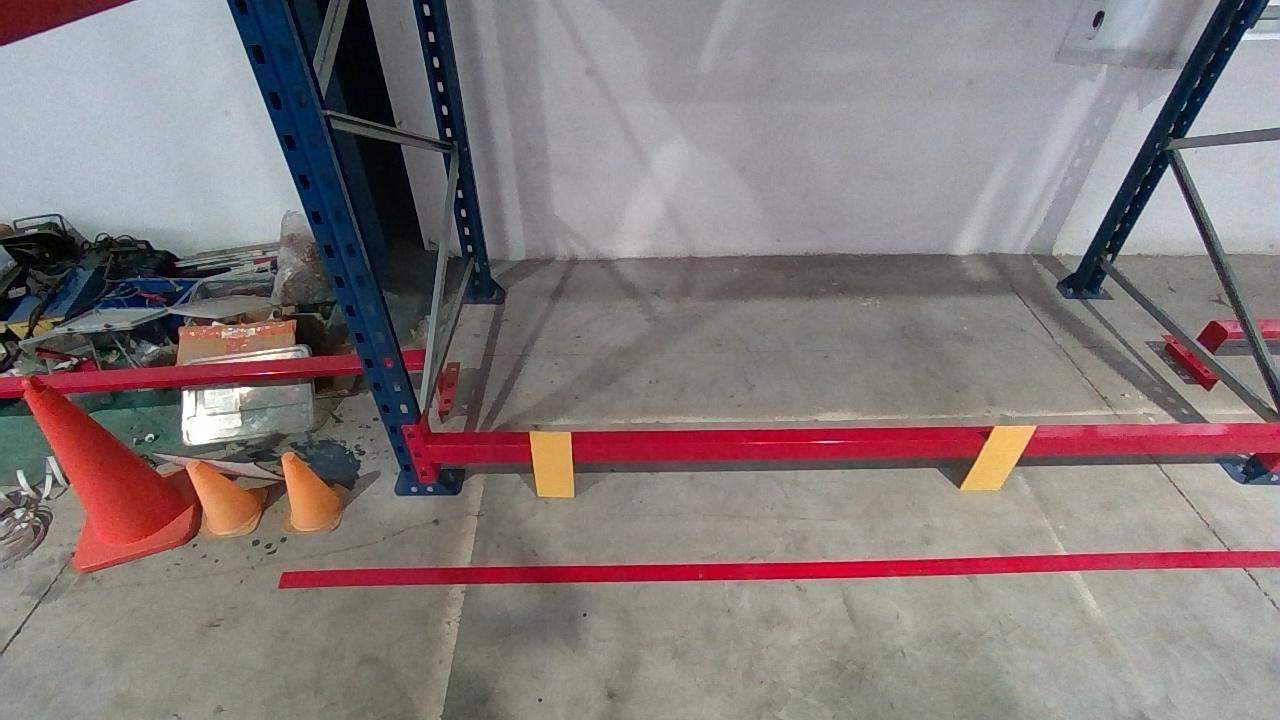h_rack: (431, 434, 1277, 462)
orange_strip: (958, 424, 1040, 491), (528, 431, 575, 495)
red_line: (277, 553, 1277, 585)
